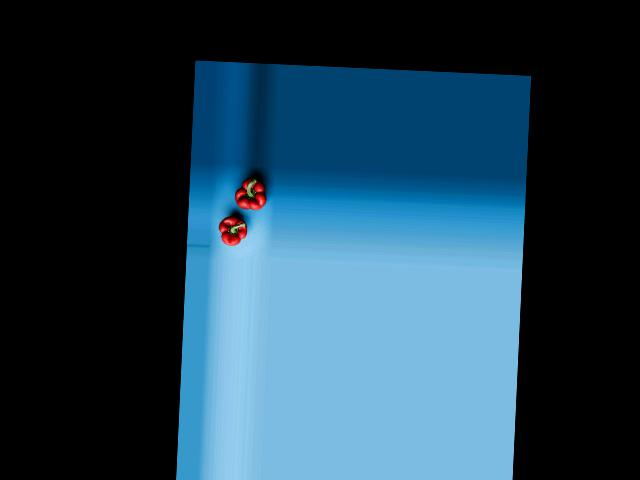bell_pepper: (230, 173, 266, 216)
